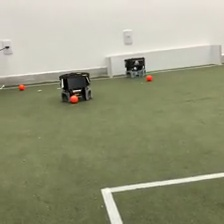ball: (68, 93, 79, 105), (144, 72, 153, 81), (18, 82, 26, 90)
goal: (104, 41, 224, 80)
robot: (58, 70, 93, 103), (122, 55, 147, 79)
